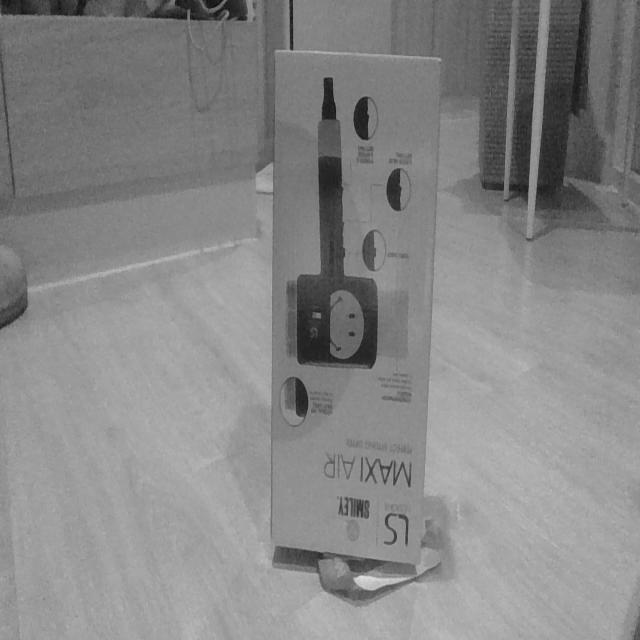IRON: (267, 46, 443, 580)
